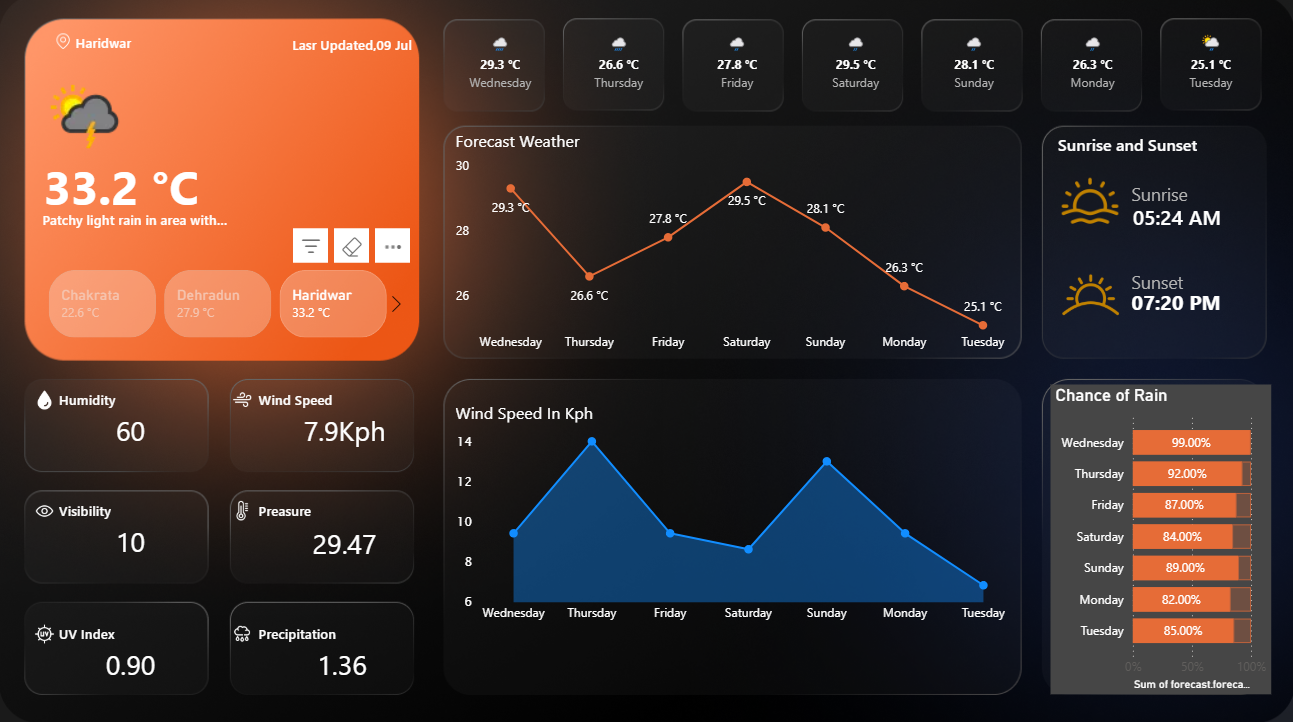

Layout of this report page (visuals, bound fields, positions):
{"tool":"powerbi","page":{"name":"Page 1","canvas":[1280,720],"ordinal":0},"visuals":[{"type":"advancedSlicerVisual","fields":{"Values":["Locations.location.name"]},"box":[23.9,264.6,384,77.6],"z":0},{"type":"shape","box":[43.8,153.2,210.9,67.6],"z":1000},{"type":"shape","box":[43.5,206,211.7,28.3],"z":2000},{"type":"shape","box":[75.6,31.8,121.4,29.8],"z":3000},{"type":"shape","box":[197,35.8,210.9,23.9],"z":4000},{"type":"image","box":[49.7,29.8,25.9,29.8],"z":5000},{"type":"cardVisual","fields":{"Data":["Min(Current.current.condition.icon)"]},"box":[23.9,59.7,113.4,105.5],"z":6000},{"type":"image","box":[30,384,30,30],"z":7000},{"type":"image","box":[225.6,383.4,30,30],"z":8000},{"type":"image","box":[30,493.4,30,30],"z":9000},{"type":"image","box":[225.6,493.8,30,30],"z":10000},{"type":"image","box":[30,614.8,30,30],"z":11000},{"type":"image","box":[225.6,615.3,30,30],"z":12000},{"type":"shape","box":[60,383.4,137.3,30],"z":13000},{"type":"shape","box":[60,493.8,137.3,30],"z":14000},{"type":"shape","box":[60,615.3,137.3,30],"z":15000},{"type":"shape","box":[255.6,383.4,137.3,30],"z":16000},{"type":"shape","box":[255.6,615.3,137.3,30],"z":17000},{"type":"shape","box":[255.6,493.8,137.3,30],"z":18000},{"type":"card","fields":{"Values":["Sum(Current.current.humidity)"]},"box":[93.1,399.1,72.6,63.1],"z":19000},{"type":"card","fields":{"Values":["MeasureTable.Wind_Speed"]},"box":[288.7,399.1,104.1,63.1],"z":20000},{"type":"card","fields":{"Values":["Sum(Current.current.pressure_in)"]},"box":[288.7,509.6,104.1,63.1],"z":21000},{"type":"card","fields":{"Values":["Sum(Current.current.vis_km)"]},"box":[93.1,508,72.6,63.1],"z":22000},{"type":"card","fields":{"Values":["Sum(Current.current.uv)"]},"box":[93.1,629.5,72.6,63.1],"z":23000},{"type":"card","fields":{"Values":["Sum(Current.current.precip_mm)"]},"box":[302.9,629.5,72.6,63.1],"z":24000},{"type":"advancedSlicerVisual","fields":{"Values":["Forecast_Day.Day_Name"]},"box":[435.4,30,823.5,82],"z":25000},{"type":"lineChart","title":"Forecast Weather","fields":{"Y":["Sum(Forecast_Day.forecast.forecastday.day.avgtemp_c)"],"Category":["Forecast_Day.Day_Name"]},"box":[446.5,132.5,561.6,227.2],"z":26000},{"type":"shape","box":[1046,132.5,200.4,30],"z":27000},{"type":"shape","box":[1119.6,183.5,99.4,67.8],"z":28000},{"type":"shape","box":[1119.1,268.7,99.4,67.8],"z":29000},{"type":"shape","box":[1118,177.2,99.4,34.7],"z":30000},{"type":"shape","box":[1118,269.3,99.4,25.2],"z":31000},{"type":"image","box":[1034.9,168.8,83.6,66.3],"z":32000},{"type":"image","box":[1034.9,250.8,85.2,89.9],"z":33000},{"type":"hundredPercentStackedBarChart","title":"Chance of Rain","fields":{"Y":["Sum(Forecast_Day.forecast.forecastday.day.daily_chance_of_rain)","MeasureTable.Left_Value_Rain"],"Category":["Forecast_Day.Day_Name"]},"box":[1038.1,383.4,217.7,306.1],"z":34000},{"type":"lineChart","title":"Wind Speed In Kph","fields":{"Category":["Forecast_Day.Day_Name"],"Y":["Sum(Forecast_Day.forecast.forecastday.day.maxwind_kph)"]},"box":[446.6,399.7,562,227.5],"z":35000}]}

Visuals, with their boxes in screenshot pixels (x1, y1, x2, y2), scaled from the page's 1280x720 canvas onto the 1293x722 screenshot:
advancedSlicerVisual - Locations.location.name: (left=24, top=265, right=412, bottom=343)
shape: (left=44, top=154, right=257, bottom=221)
shape: (left=44, top=207, right=258, bottom=235)
shape: (left=76, top=32, right=199, bottom=62)
shape: (left=199, top=36, right=412, bottom=60)
image: (left=50, top=30, right=76, bottom=60)
cardVisual - Min(Current.current.condition.icon): (left=24, top=60, right=139, bottom=166)
image: (left=30, top=385, right=61, bottom=415)
image: (left=228, top=384, right=258, bottom=415)
image: (left=30, top=495, right=61, bottom=525)
image: (left=228, top=495, right=258, bottom=525)
image: (left=30, top=617, right=61, bottom=647)
image: (left=228, top=617, right=258, bottom=647)
shape: (left=61, top=384, right=199, bottom=415)
shape: (left=61, top=495, right=199, bottom=525)
shape: (left=61, top=617, right=199, bottom=647)
shape: (left=258, top=384, right=397, bottom=415)
shape: (left=258, top=617, right=397, bottom=647)
shape: (left=258, top=495, right=397, bottom=525)
card - Sum(Current.current.humidity): (left=94, top=400, right=167, bottom=463)
card - MeasureTable.Wind_Speed: (left=292, top=400, right=397, bottom=463)
card - Sum(Current.current.pressure_in): (left=292, top=511, right=397, bottom=574)
card - Sum(Current.current.vis_km): (left=94, top=509, right=167, bottom=573)
card - Sum(Current.current.uv): (left=94, top=631, right=167, bottom=695)
card - Sum(Current.current.precip_mm): (left=306, top=631, right=379, bottom=695)
advancedSlicerVisual - Forecast_Day.Day_Name: (left=440, top=30, right=1272, bottom=112)
"Forecast Weather" lineChart: (left=451, top=133, right=1018, bottom=361)
shape: (left=1057, top=133, right=1259, bottom=163)
shape: (left=1131, top=184, right=1231, bottom=252)
shape: (left=1130, top=269, right=1231, bottom=337)
shape: (left=1129, top=178, right=1230, bottom=212)
shape: (left=1129, top=270, right=1230, bottom=295)
image: (left=1045, top=169, right=1130, bottom=236)
image: (left=1045, top=251, right=1131, bottom=342)
"Chance of Rain" hundredPercentStackedBarChart: (left=1049, top=384, right=1269, bottom=691)
"Wind Speed In Kph" lineChart: (left=451, top=401, right=1019, bottom=629)
